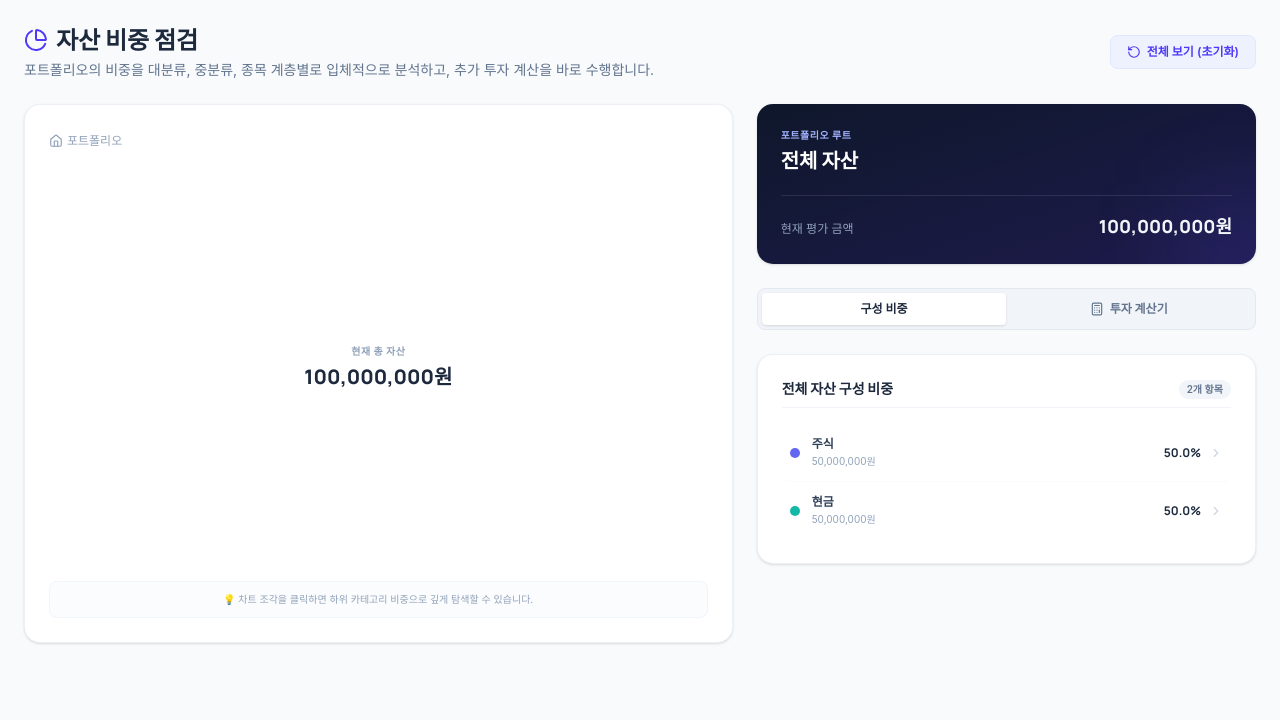
Test: RatioCheckPage › 대분류 클릭 시 중분류 단계로 드릴다운되고 Breadcrumb과 중앙 레이블이 업데이트된다
'주식' 행 클릭
Click the text "주식" at (823, 444), box [812, 436, 834, 451]
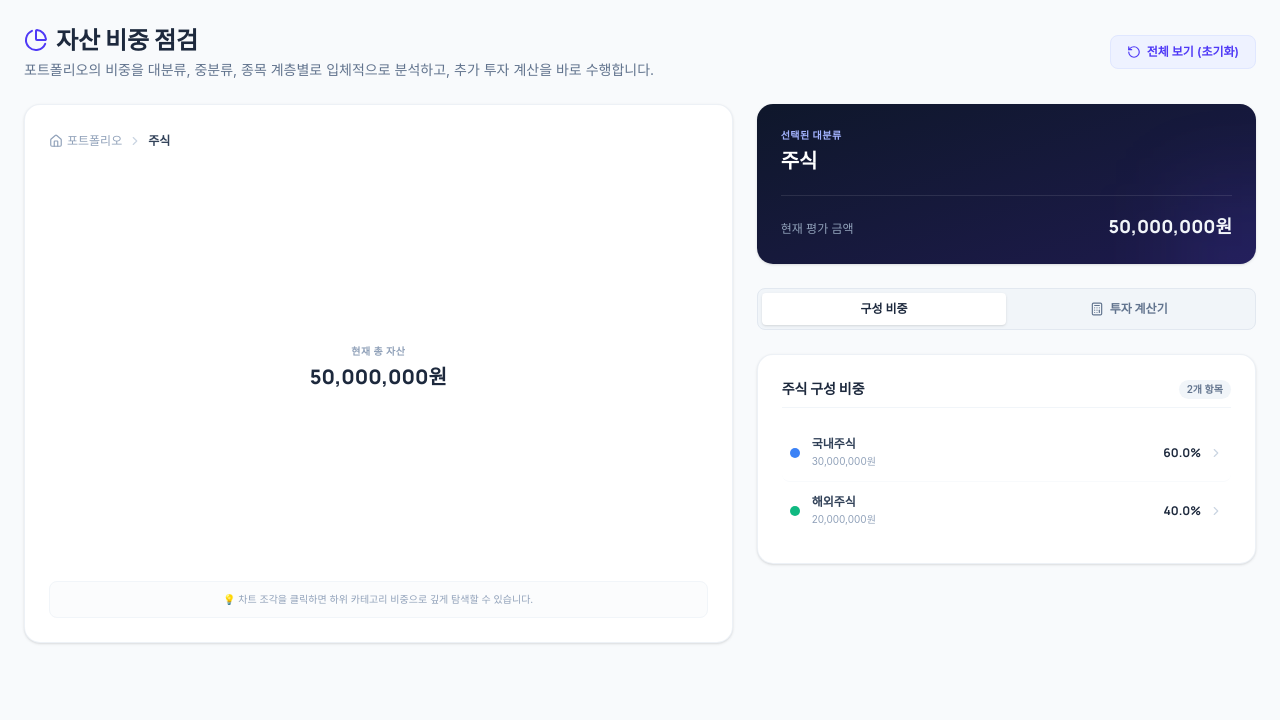
expect the text "국내주식" is shown: met, box [812, 436, 856, 451]
expect the text "해외주식" is shown: met, box [812, 494, 856, 509]
expect the button with test id "breadcrumb-major" reads "주식": met, box [148, 133, 170, 149]
